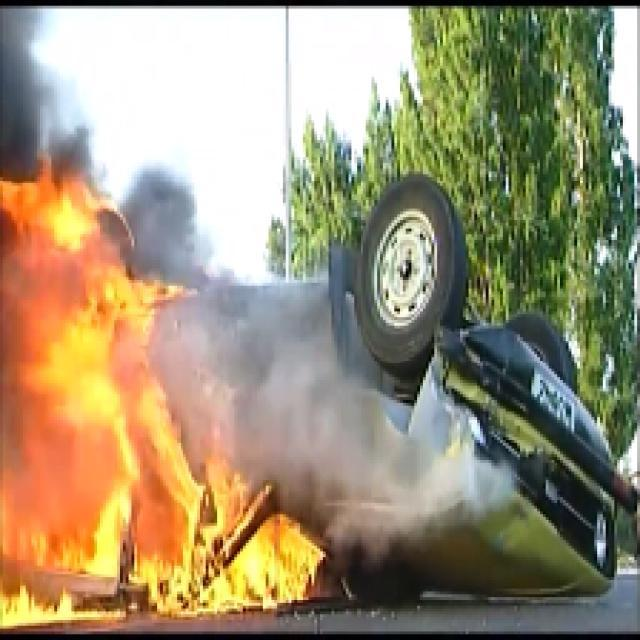Fire: (6, 195, 124, 606), (137, 420, 300, 604)
Smoke: (174, 282, 348, 417), (316, 432, 442, 521)
